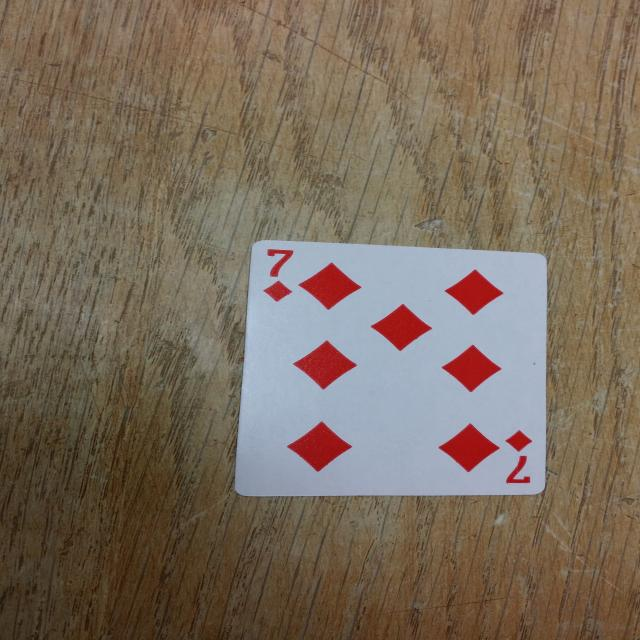7d: (485, 428, 548, 493), (256, 242, 302, 302)
